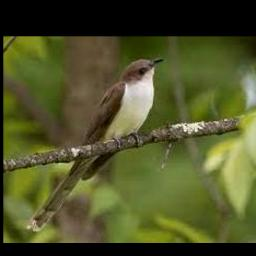Cuckoo: (26, 57, 165, 232)
